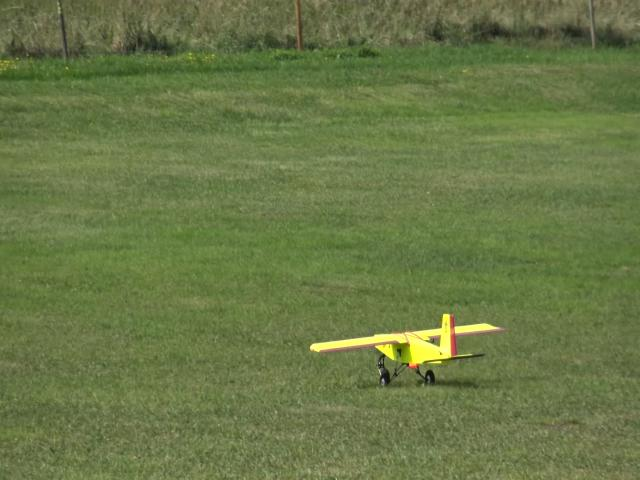plane: (309, 313, 505, 385)
